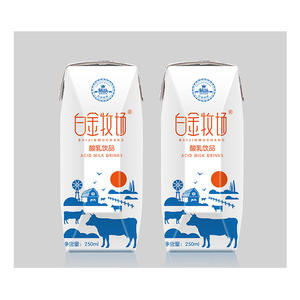carton: (50, 45, 150, 258), (157, 45, 247, 261)
